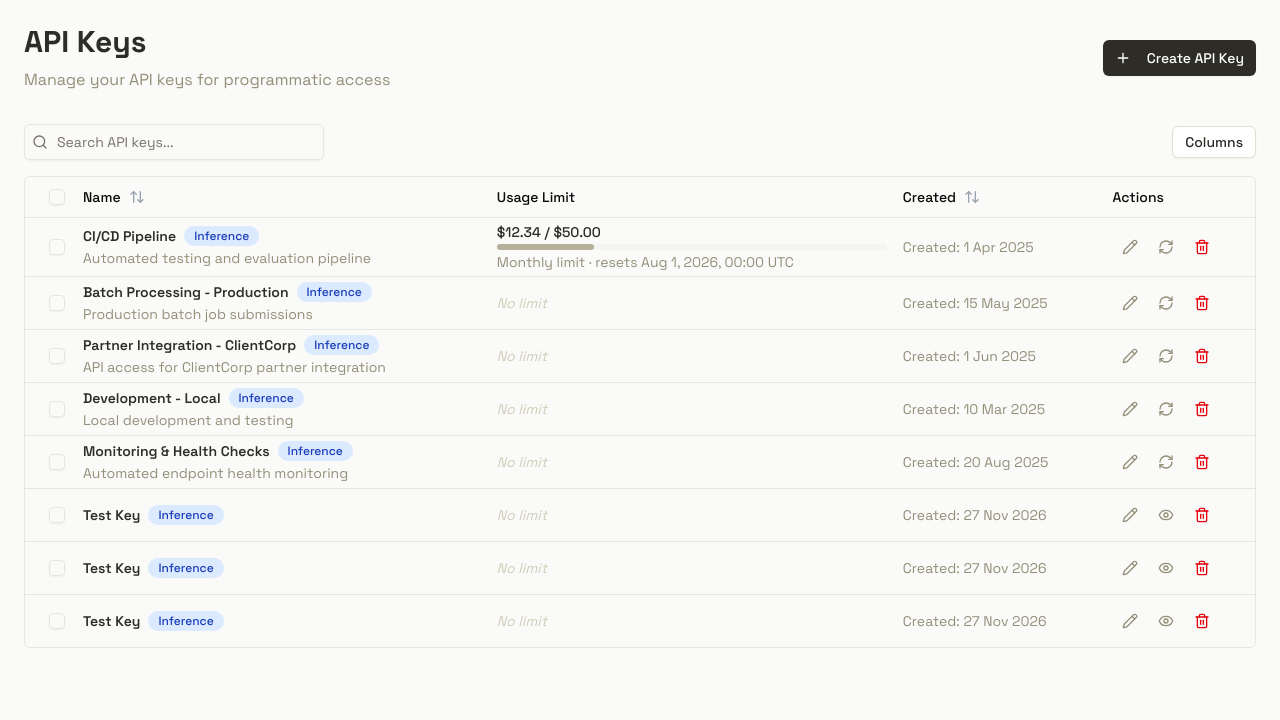
Test: API Keys Component - Functional Tests › API Key Deletion Journey › deletes individual API key with confirmation
Expected: the heading "API Keys" is shown, [24,22,147,61]
Click the button named "delete".
click(1202, 246)  # box [1184,230,1220,262]
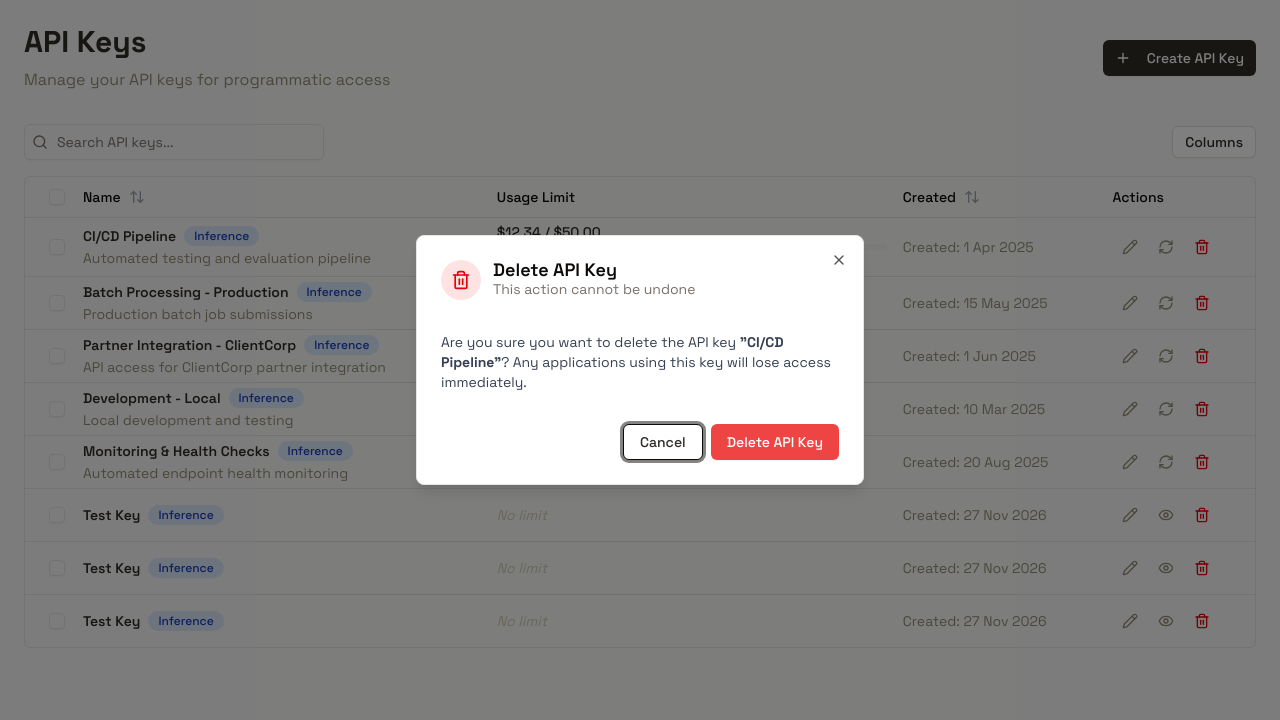
Expected: the heading "Delete API Key" is shown, [493,258,617,281]
Expected: the text "This action cannot be undone" is shown, [493,279,696,299]
Click the button "Cancel".
click(663, 442)  # box [623,424,703,460]
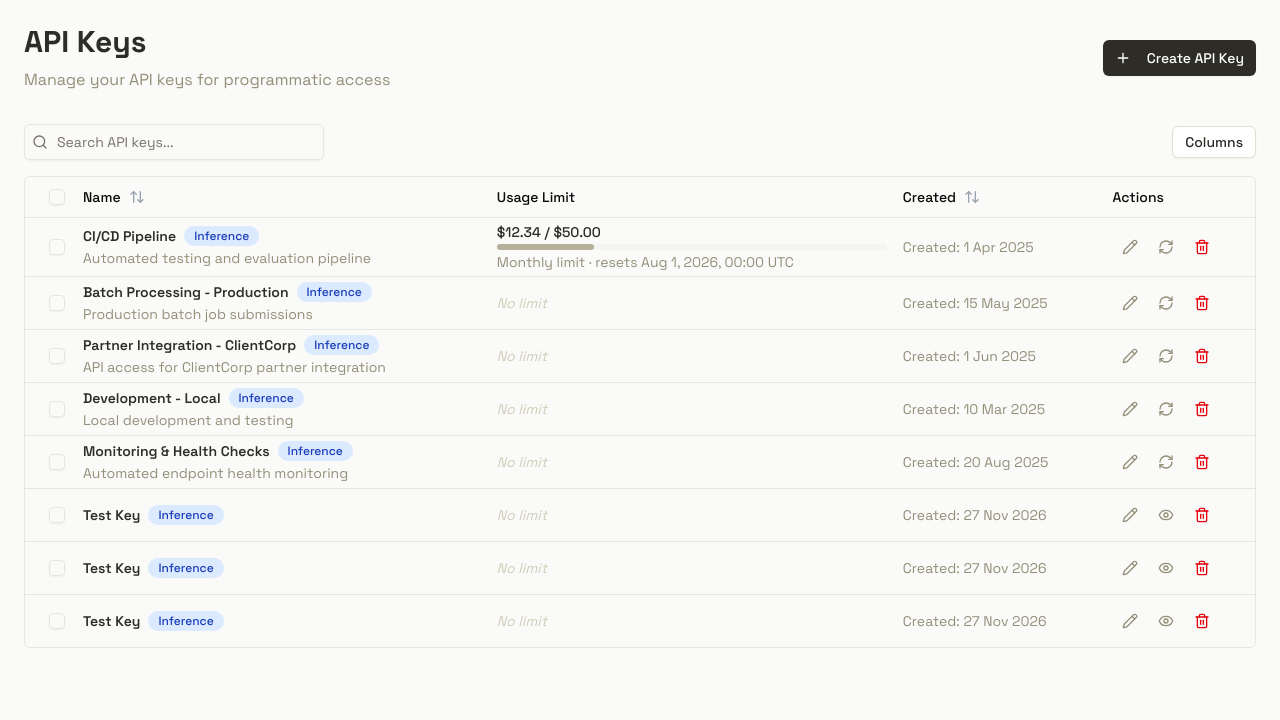
Expected: the heading "Delete API Key" is gone
